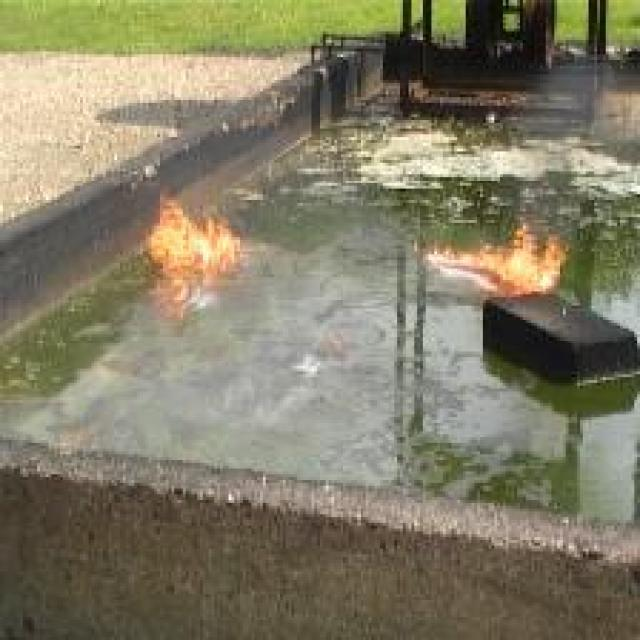Fire: (152, 192, 238, 312), (428, 225, 568, 298)
